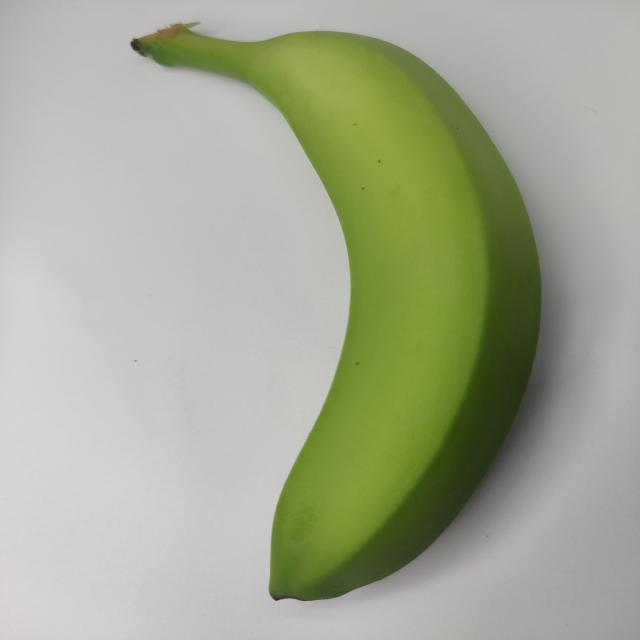raw: (66, 21, 576, 611)
